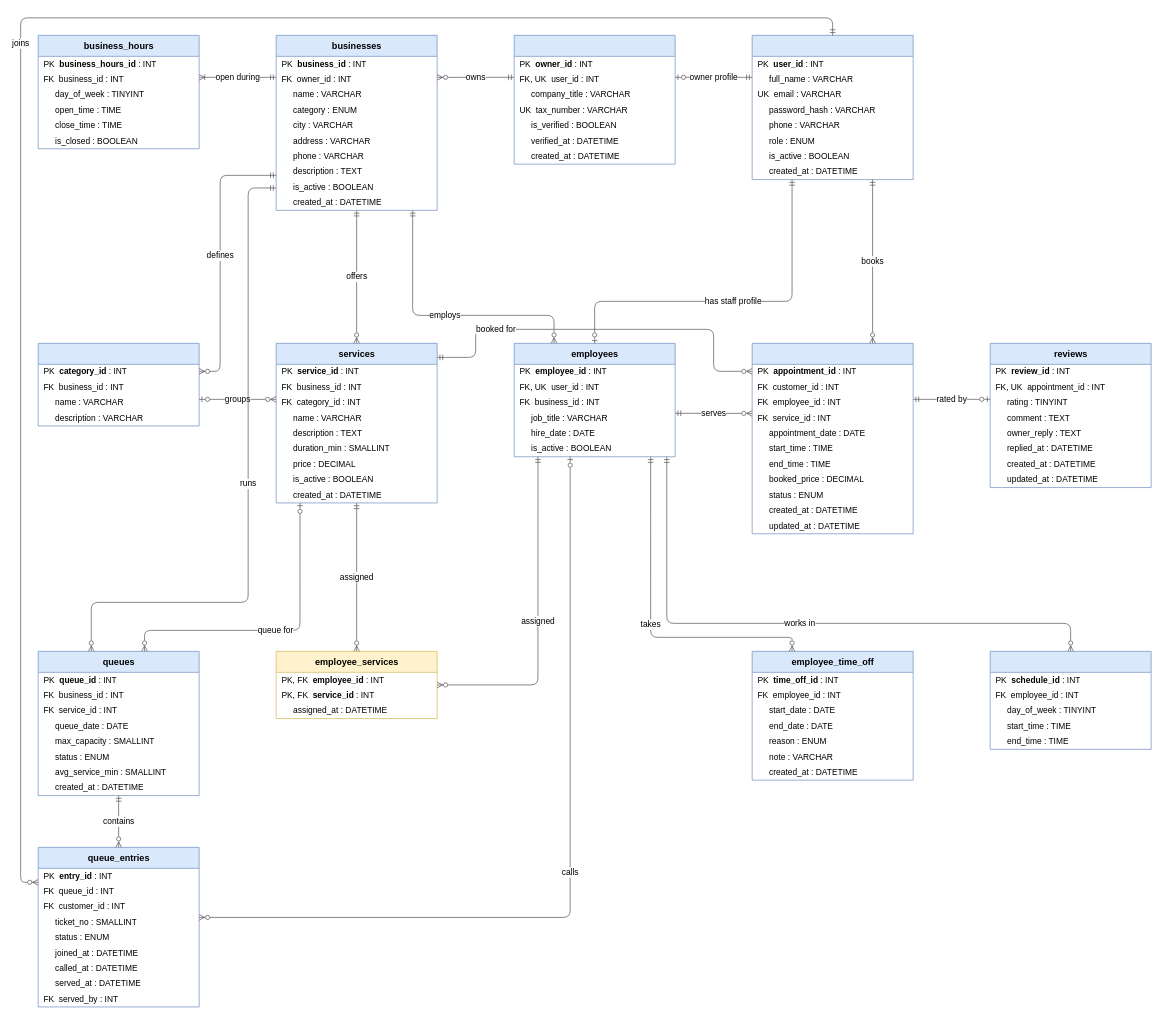
This 1163x1019 diagram has some shape labels left out. Each missing label, with the box of its shape:
appointments: (751, 343, 913, 534)
business_owners: (513, 35, 675, 164)
employee_schedules: (989, 651, 1151, 749)
service_categories: (37, 343, 199, 426)
users: (751, 35, 913, 180)
